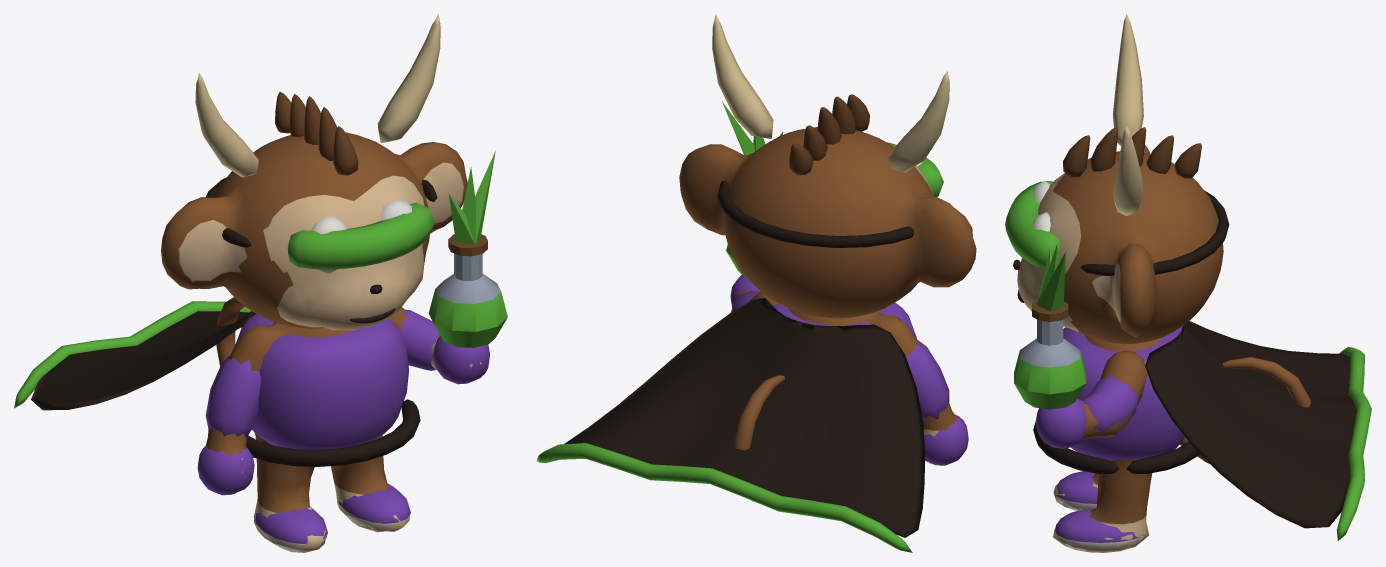
The picture shows the model from 3 angles, left to right: view 1: azimuth 30°, elevation 25°; view 2: azimuth 150°, elevation 25°; view 3: azimuth 270°, elevation 25°; orthographic projection. The views are drawn at different scales.
Parts seen in each view (by area): view 1: alquimista_2_cabeca, alquimista_0_corpo, alquimista_3_braco, alquimista_1_cauda; view 2: alquimista_0_corpo, alquimista_2_cabeca, alquimista_3_braco, alquimista_1_cauda; view 3: alquimista_0_corpo, alquimista_2_cabeca, alquimista_3_braco, alquimista_1_cauda.
Boxes of the visible parts, x1,y1,x2,y2 form: alquimista_2_cabeca: [161, 14, 467, 330]; alquimista_0_corpo: [14, 301, 420, 552]; alquimista_3_braco: [388, 151, 507, 384]; alquimista_1_cauda: [216, 297, 245, 366]; alquimista_0_corpo: [536, 298, 968, 552]; alquimista_2_cabeca: [679, 14, 976, 318]; alquimista_3_braco: [722, 101, 783, 312]; alquimista_1_cauda: [733, 375, 784, 501]; alquimista_0_corpo: [1033, 321, 1371, 552]; alquimista_2_cabeca: [1005, 14, 1229, 344]; alquimista_3_braco: [1014, 243, 1147, 448]; alquimista_1_cauda: [1179, 357, 1310, 463].
Bounding box in the file's own units: 1.01 × 1.2 × 0.8666.
